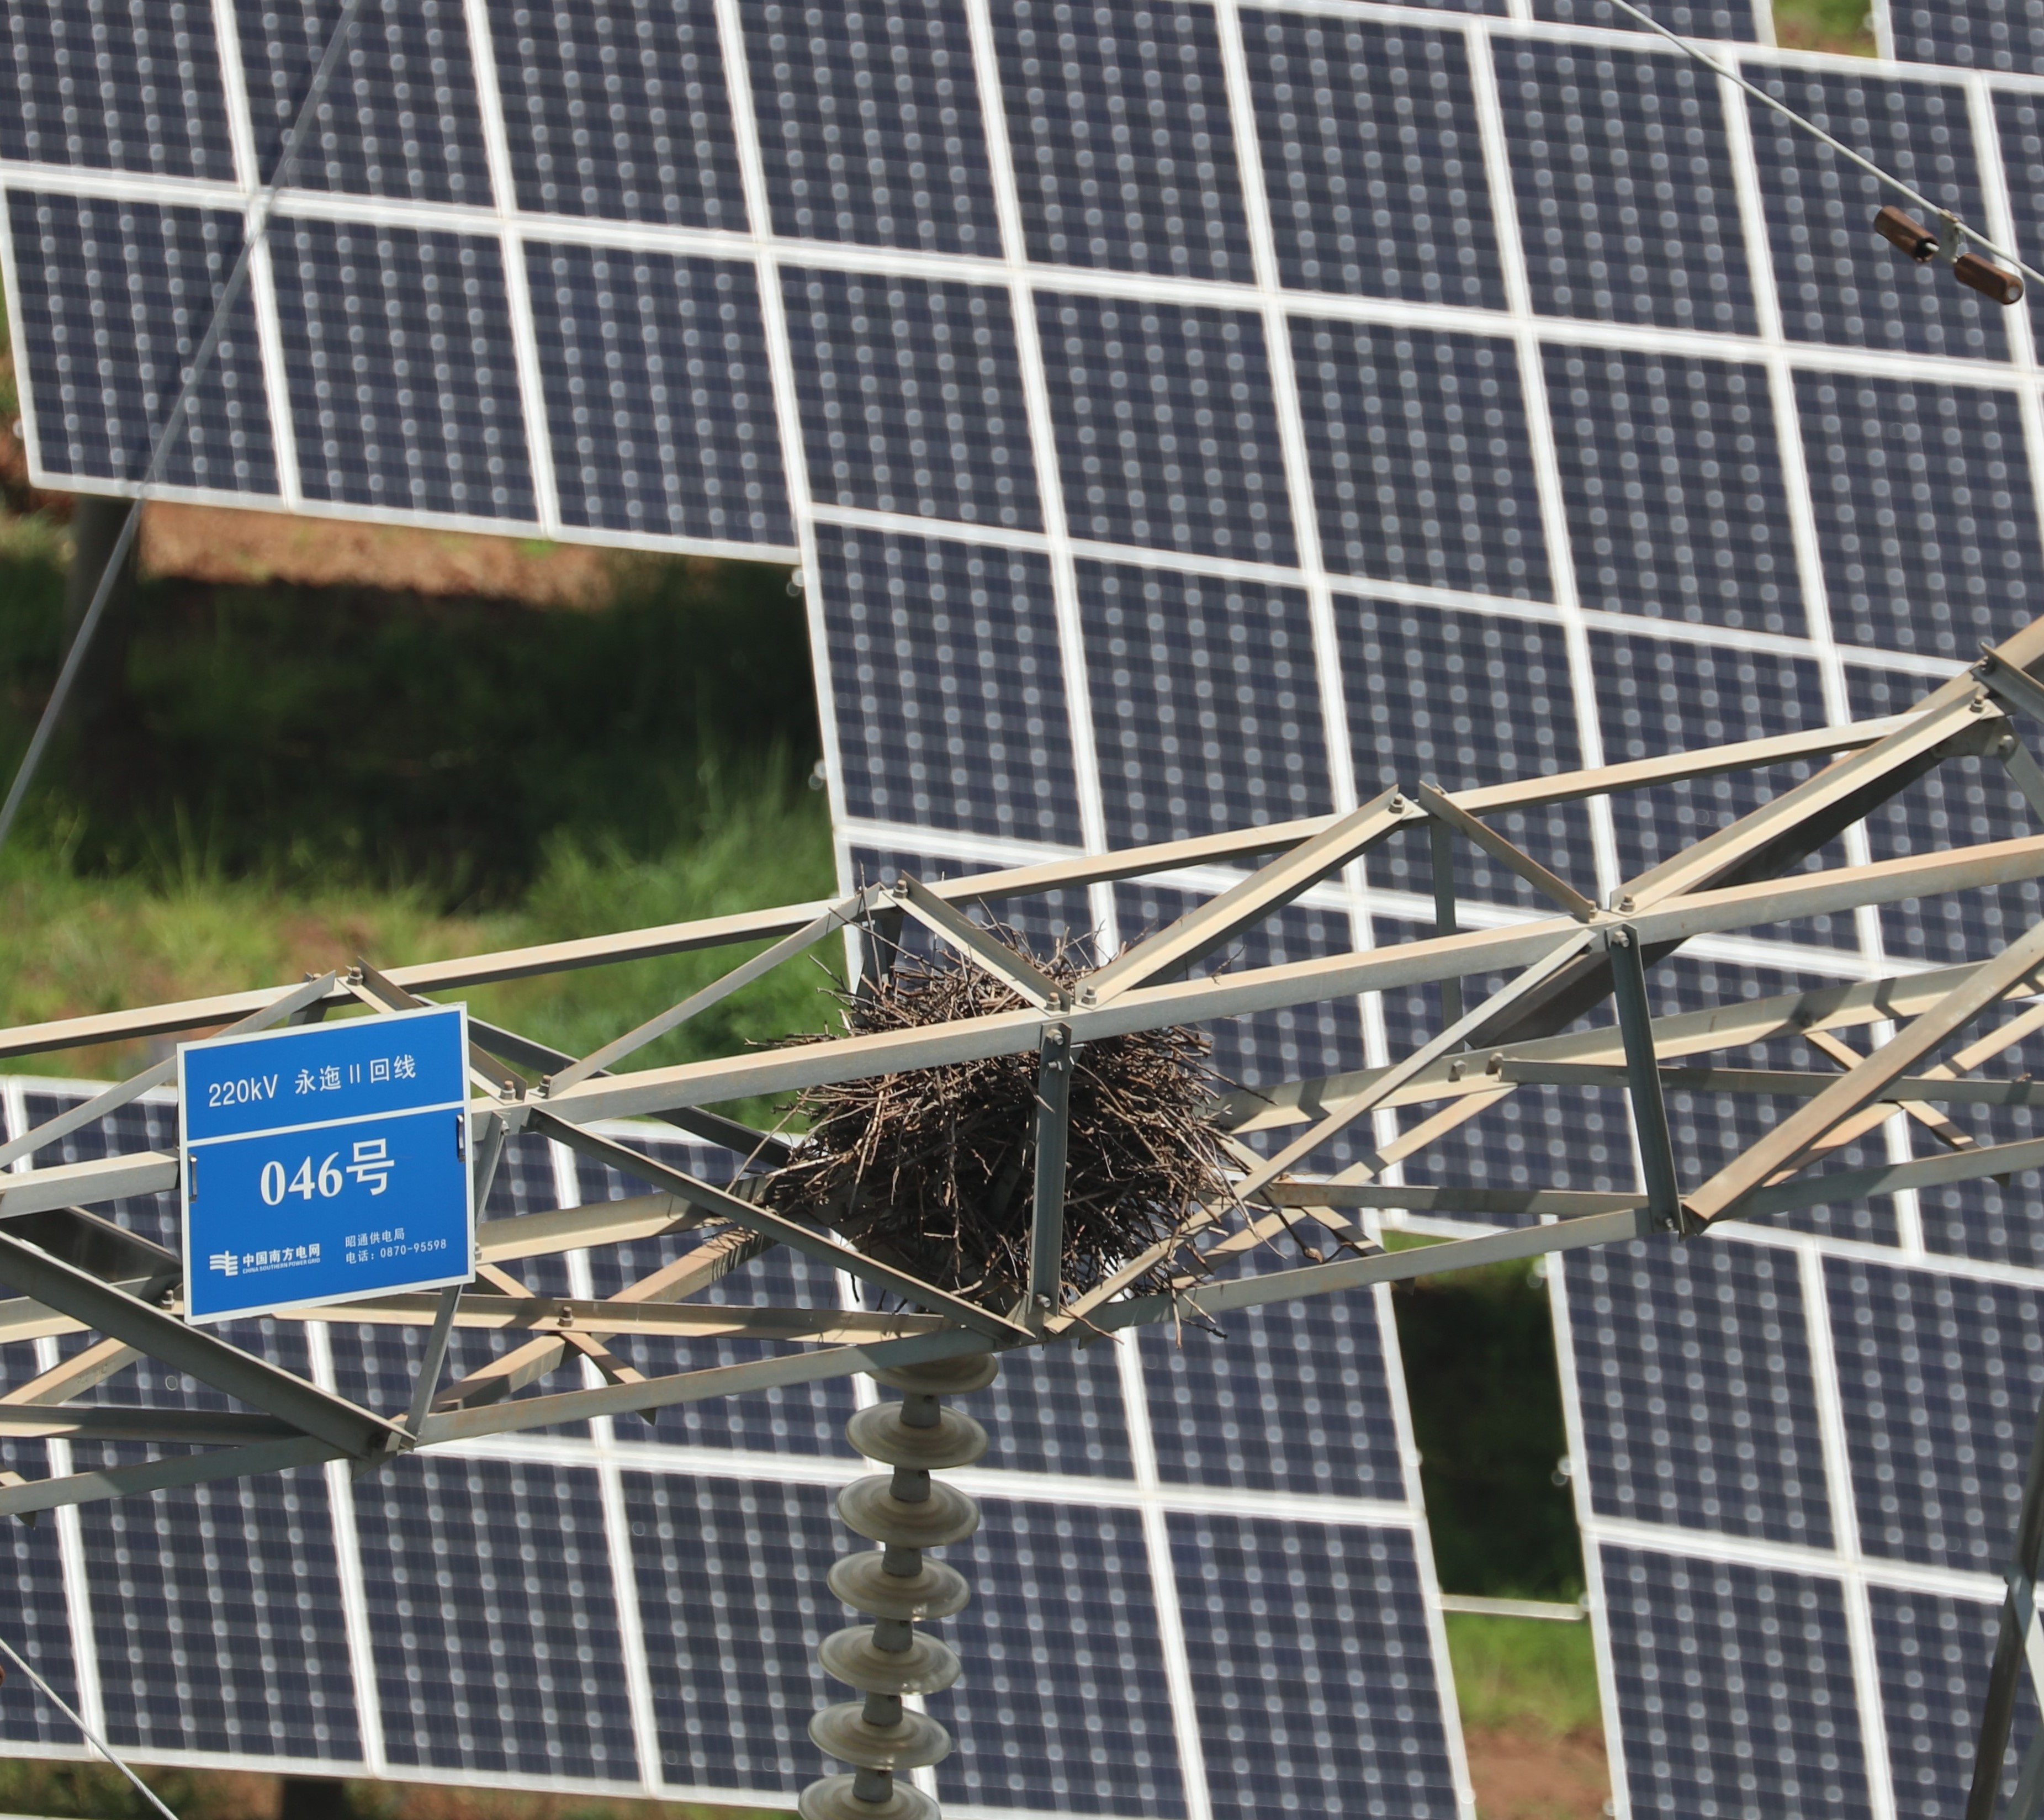niaowo: (785, 926, 1254, 1354)
